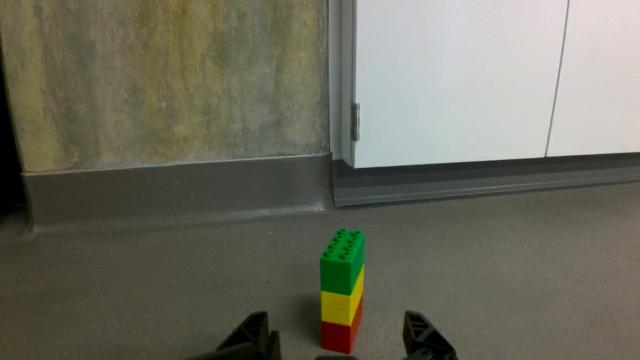lego: (314, 221, 366, 358)
